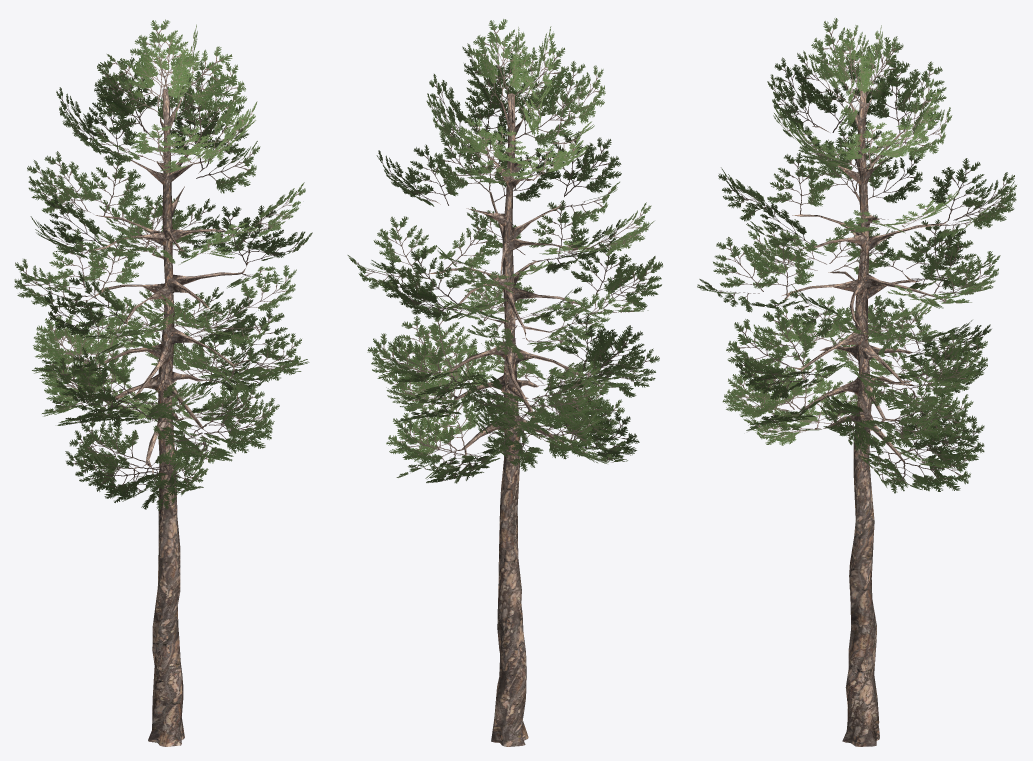
Rendered from sf_pine_2.glb.
The picture shows the model from 3 angles, left to right: view 1: azimuth 30°, elevation 25°; view 2: azimuth 150°, elevation 25°; view 3: azimuth 270°, elevation 25°; orthographic projection.
Visible parts, largest first — view 1: Tree_1_Tree_1Mat_0, Tree_0_Tree_0Mat_0; view 2: Tree_1_Tree_1Mat_0, Tree_0_Tree_0Mat_0; view 3: Tree_1_Tree_1Mat_0, Tree_0_Tree_0Mat_0.
Part boxes in pixels (box(x1,y1,x2,y2)): Tree_1_Tree_1Mat_0: box(14, 19, 312, 510); Tree_0_Tree_0Mat_0: box(81, 88, 252, 746); Tree_1_Tree_1Mat_0: box(347, 19, 662, 483); Tree_0_Tree_0Mat_0: box(413, 89, 595, 746); Tree_1_Tree_1Mat_0: box(697, 18, 1016, 493); Tree_0_Tree_0Mat_0: box(782, 90, 948, 746).
Size of the model in its own units: 4.11 by 10 by 4.08.
2 materials, 2 textured.
